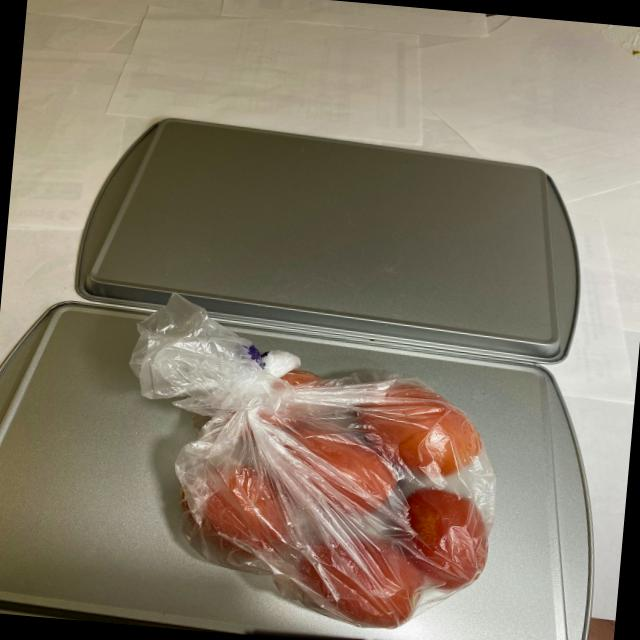tomato: (145, 335, 501, 636)
